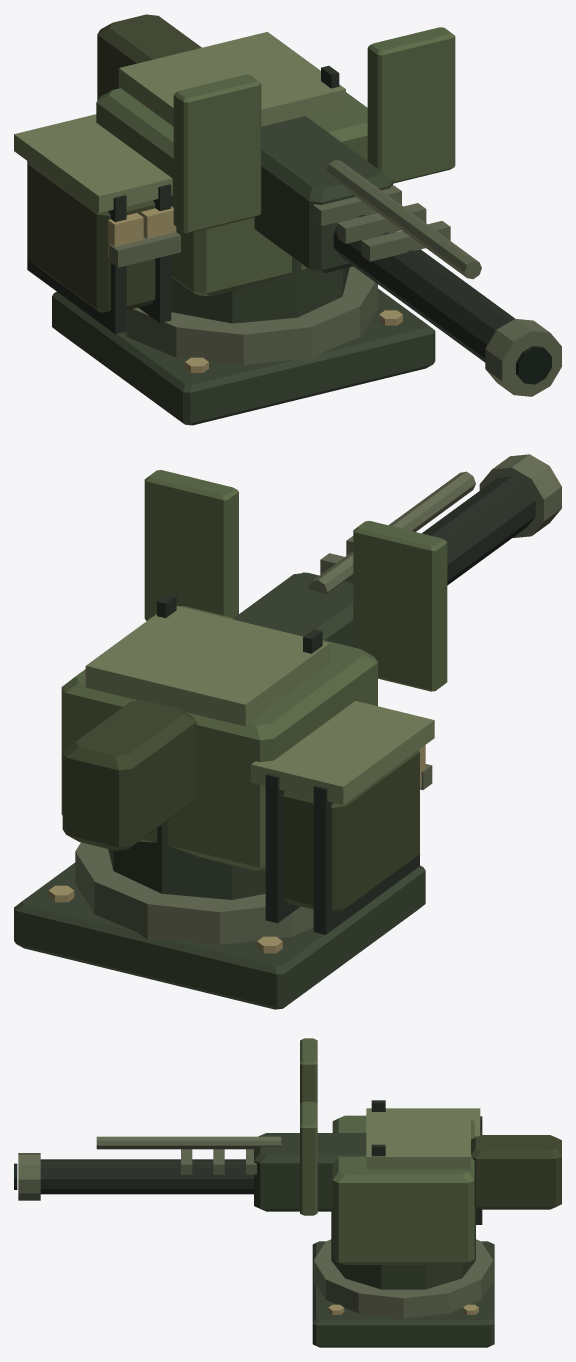
File: turret.obj
3 views of the same model, one above another, from view 1: azimuth 30°, elevation 25°; view 2: azimuth 150°, elevation 25°; view 3: azimuth 270°, elevation 25° (orthographic). The views are drawn at different scales.
Parts seen in each view (by area): view 1: MOVING, BASE; view 2: MOVING, BASE; view 3: MOVING, BASE.
Boxes of the visible parts, x1,y1,x2,y2 form: MOVING: (14, 14, 561, 396); BASE: (52, 266, 435, 425); MOVING: (61, 454, 561, 934); BASE: (14, 842, 425, 1009); MOVING: (14, 1038, 561, 1289); BASE: (312, 1239, 494, 1347).
Size of the model in its own units: 0.9525 by 1 by 2.2.
Materials: 1 (1 with a texture image).
